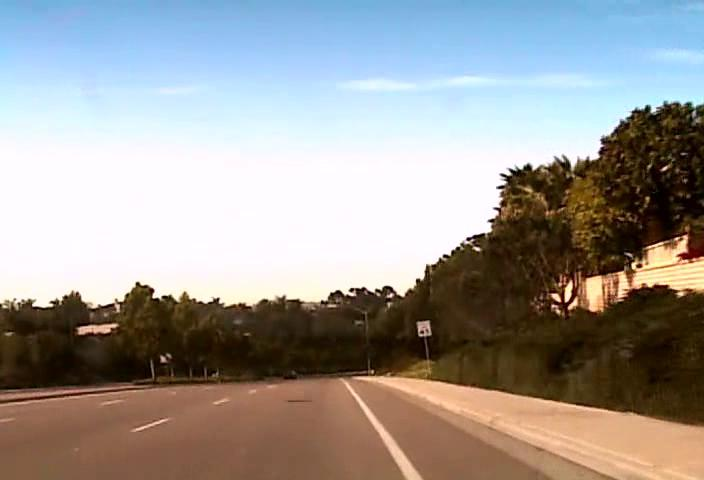speedLimitUrdbl: (416, 319, 432, 337)
